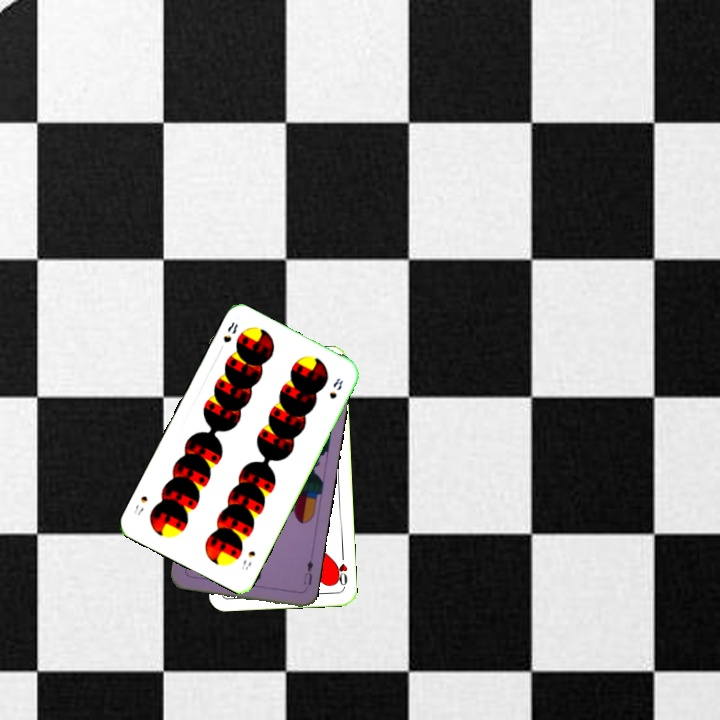EU: (299, 556, 315, 588)
HO: (331, 549, 350, 590)
S8: (219, 318, 241, 345), (237, 547, 258, 573)
